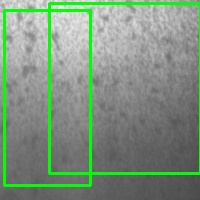pitted_surface: (49, 3, 200, 173), (4, 10, 90, 185)
